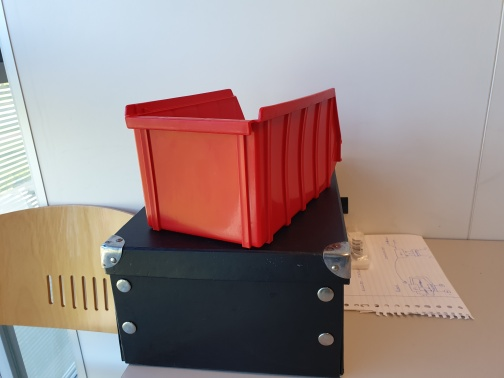tray_left: (250, 87, 343, 248)
